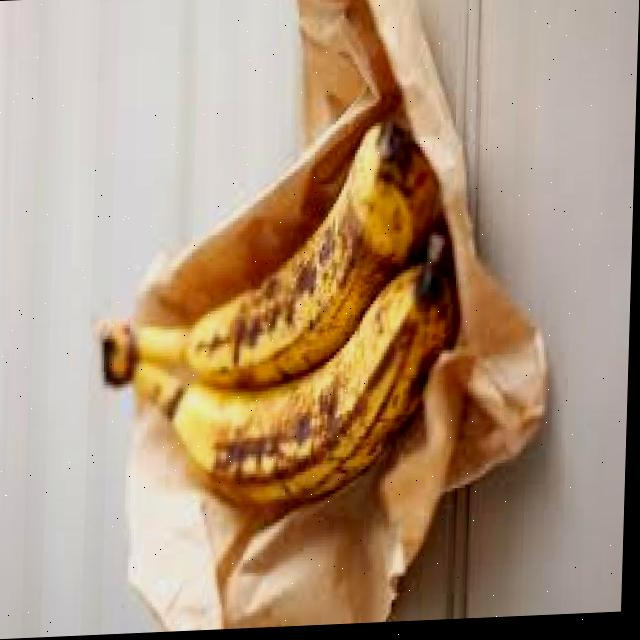banana: (89, 116, 460, 515)
